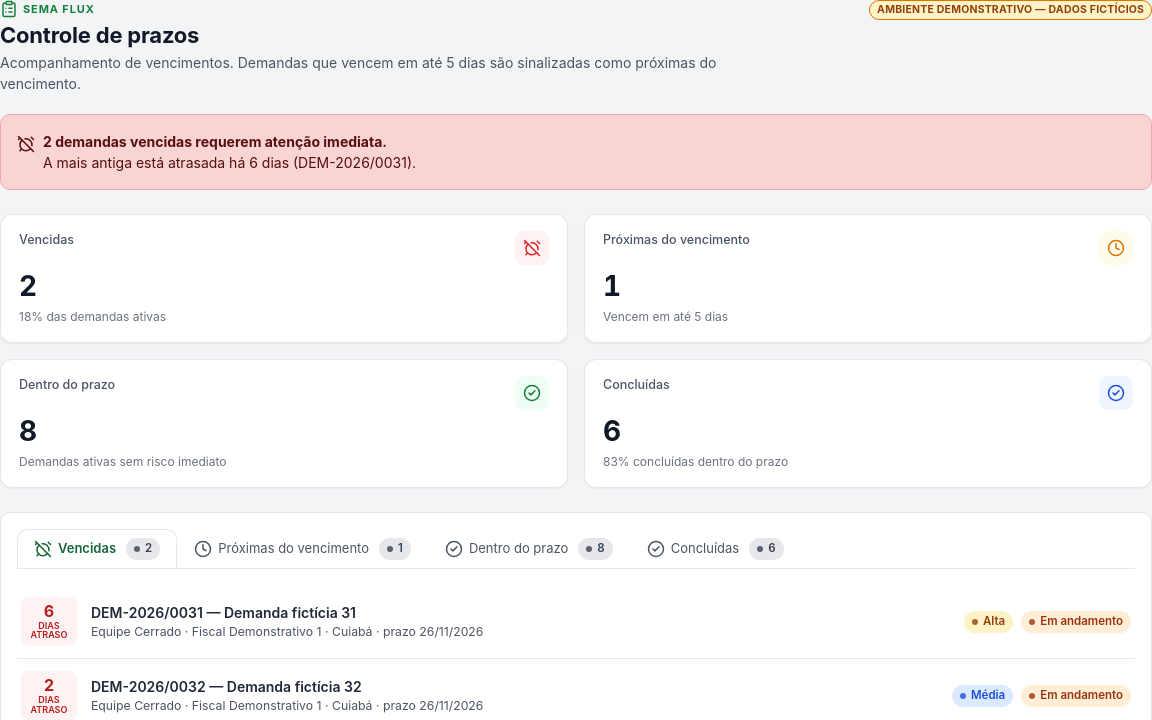
PrazosPage › troca de aba e mostra próximas do vencimento
Click the tab "Próximas do vencimento 1": [303, 549] box [177,529,428,569]
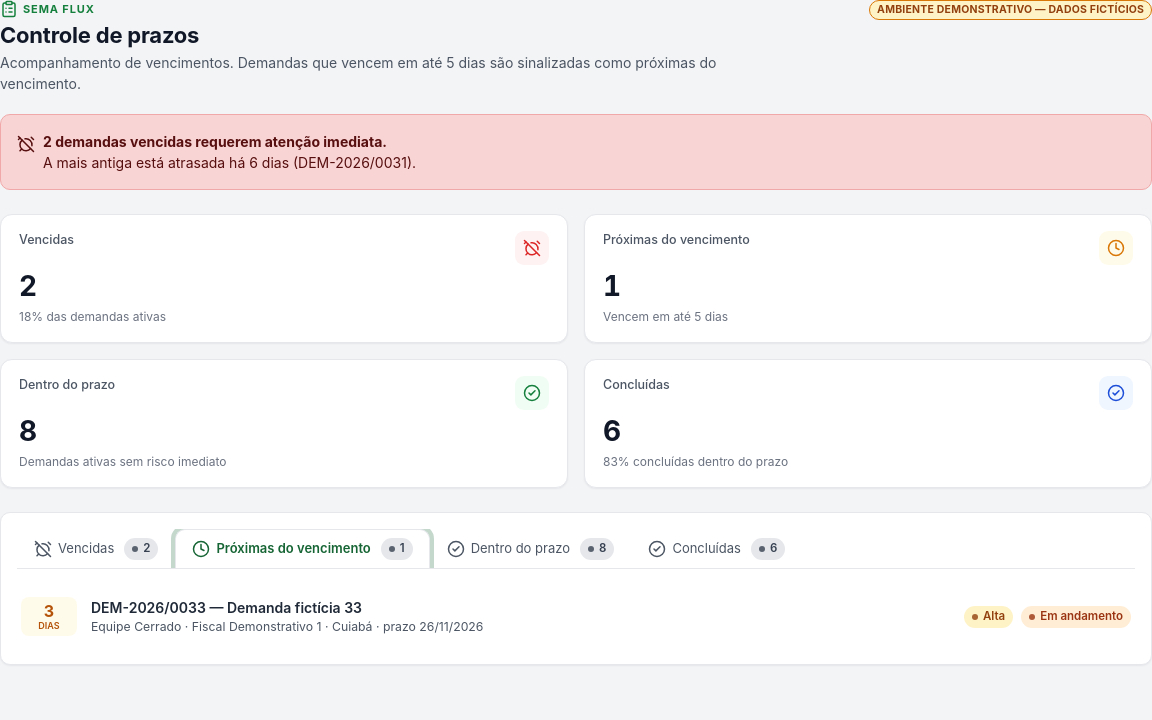
Expected: the link "DEM-2026/0033 — Demanda fictícia 33" is shown, [91,599,362,616]
